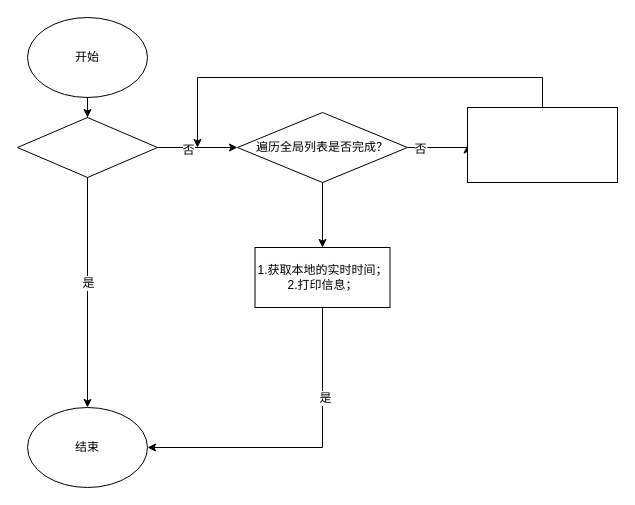
Image size: 635x505. Some labels were removed from this diagram. The centre of each missing label's shape, as x and y in pixels:
1.查找到需要删除的节点； 2.从全局链表上删除节点； 3.释放删除的节点的内存； 4.tmp = NULL避免野指针: pixel 542 144
指针是否为空指针: pixel 87 147
